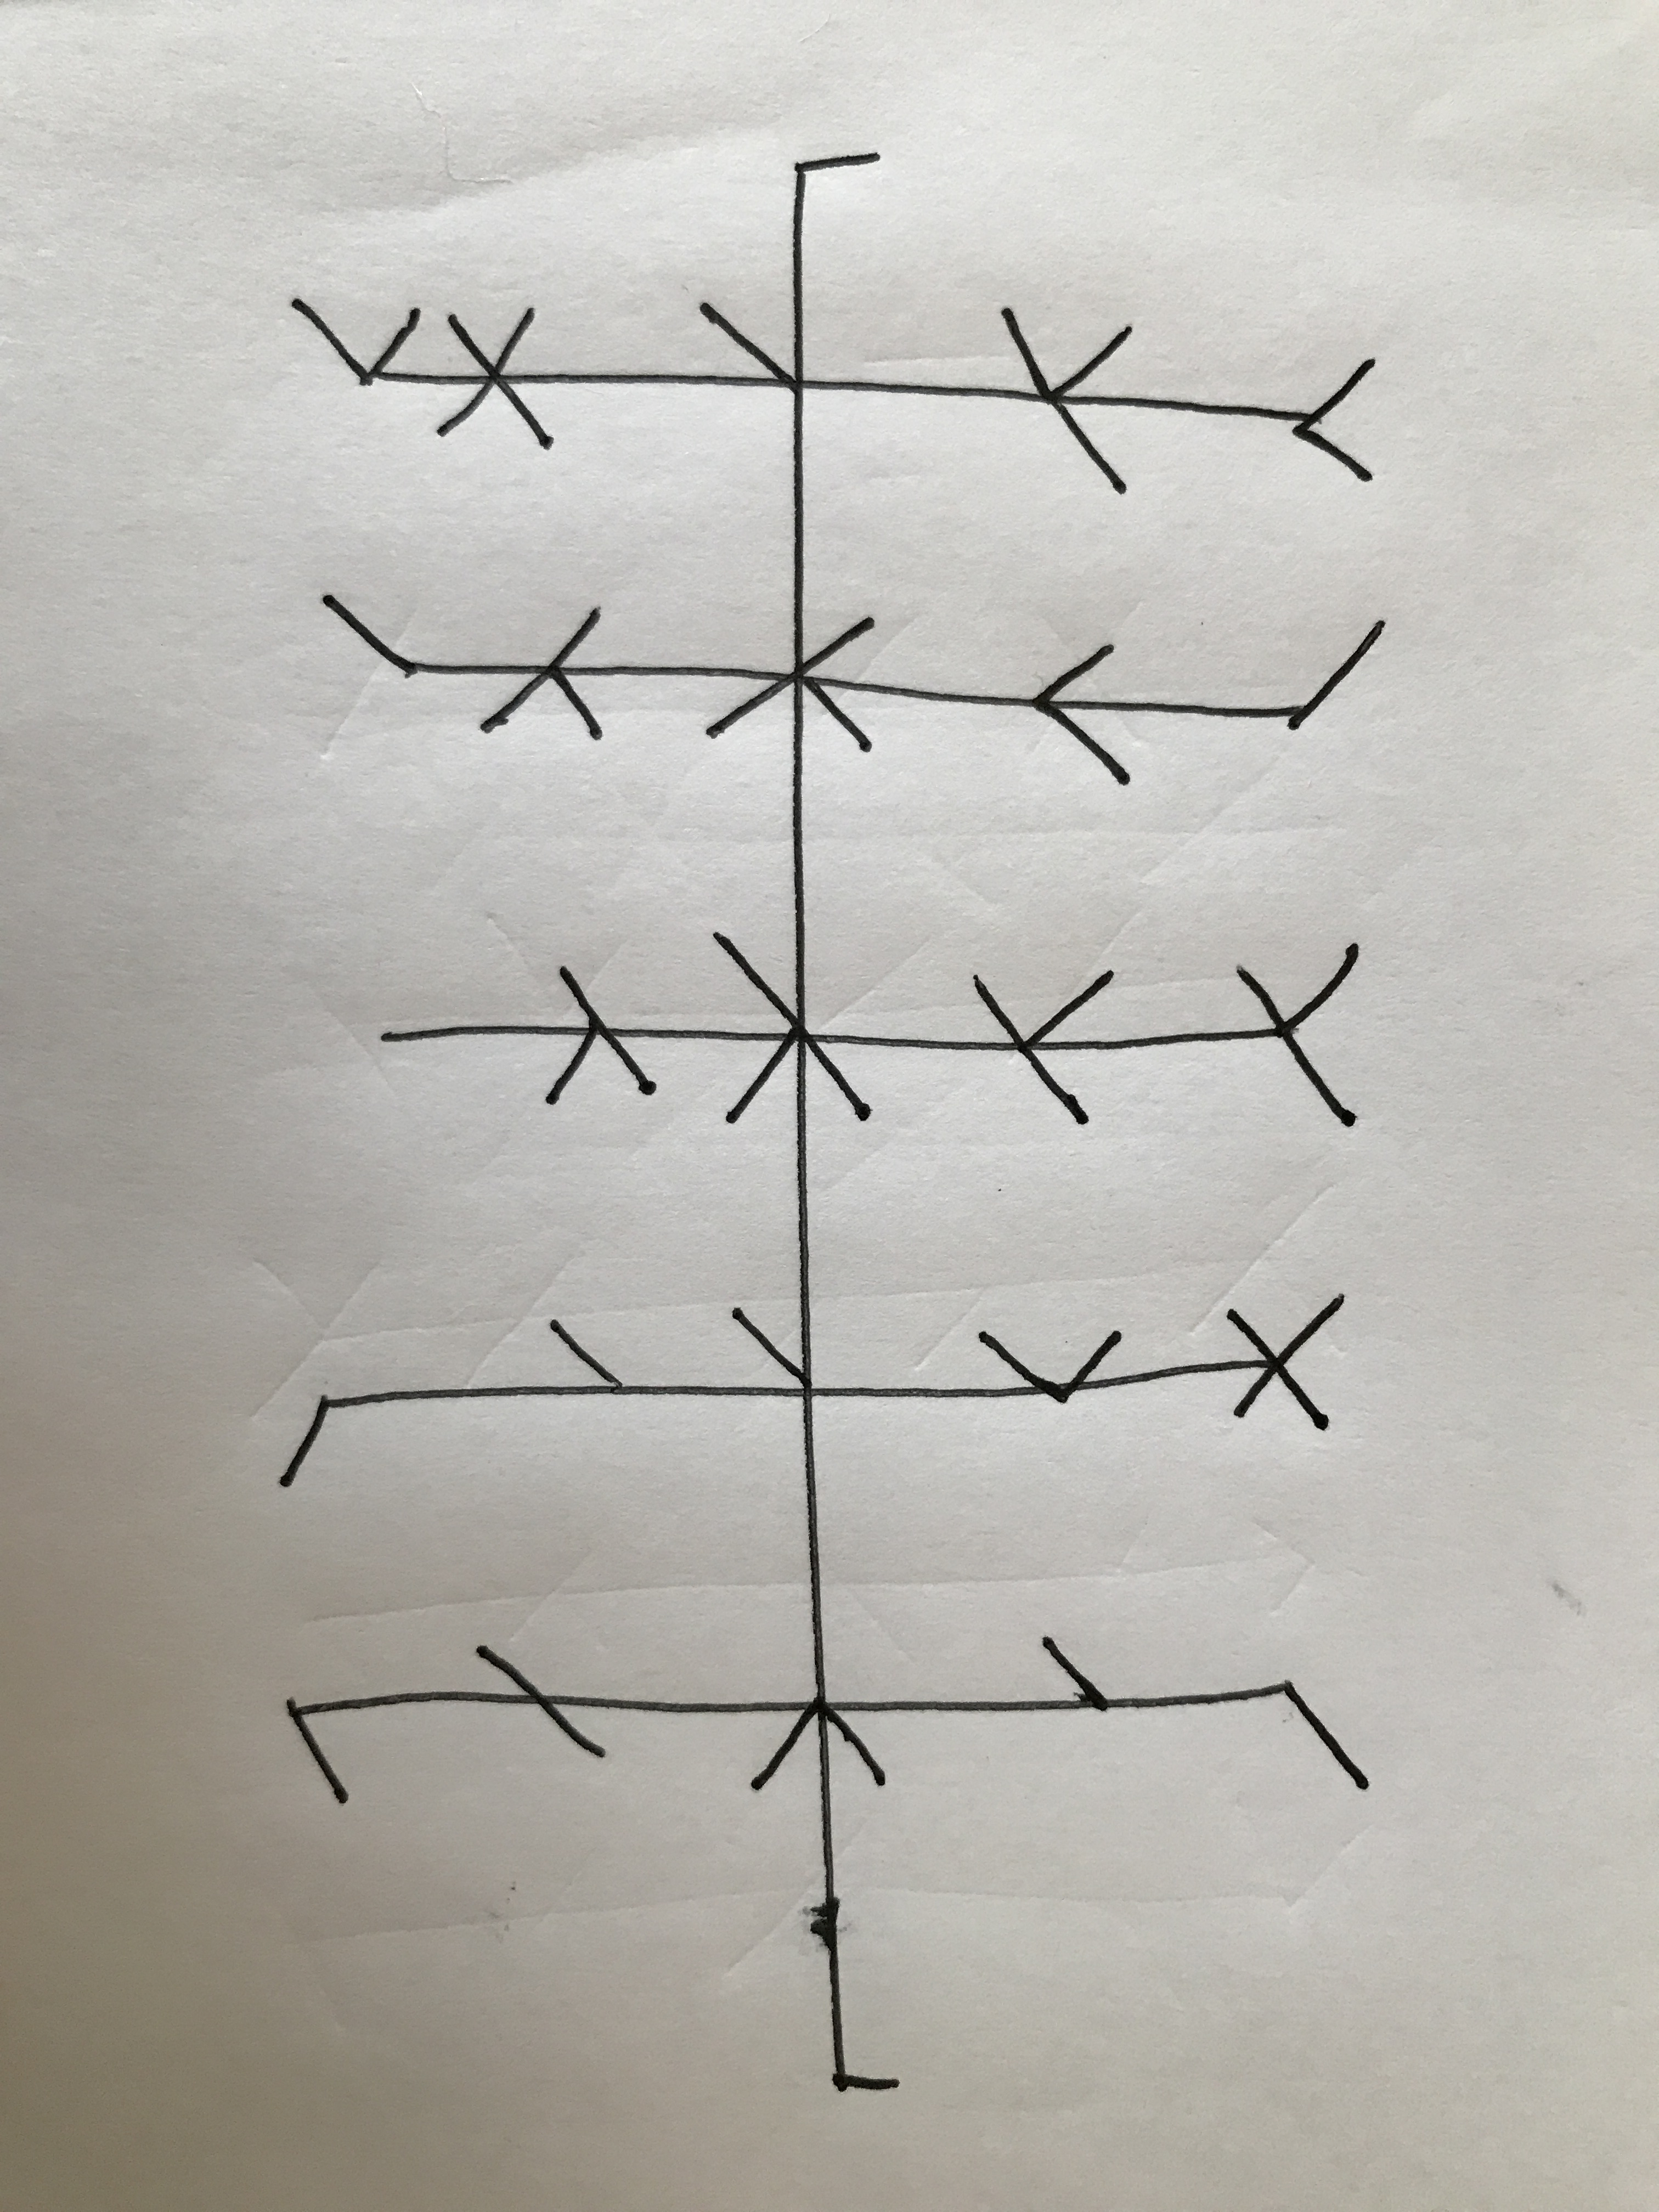Bar: (288, 298, 1378, 495), (279, 1292, 1345, 1489), (317, 592, 1387, 784), (383, 932, 1359, 1129), (288, 1635, 1370, 1810)
Barcode: (279, 153, 1389, 2092)
End: (802, 1785, 901, 2092)
Start: (791, 155, 882, 374)
